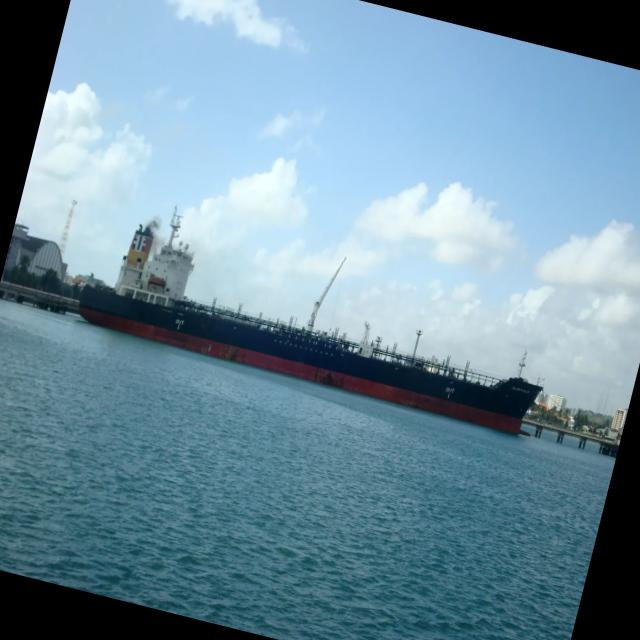Tanker: (80, 214, 541, 433)
